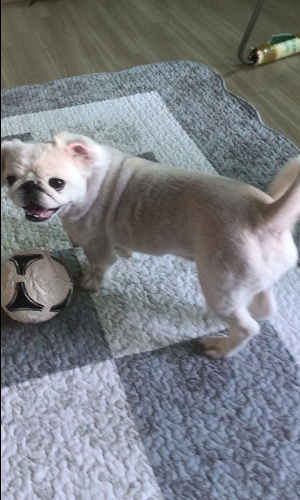ddubi: (1, 130, 300, 361)
